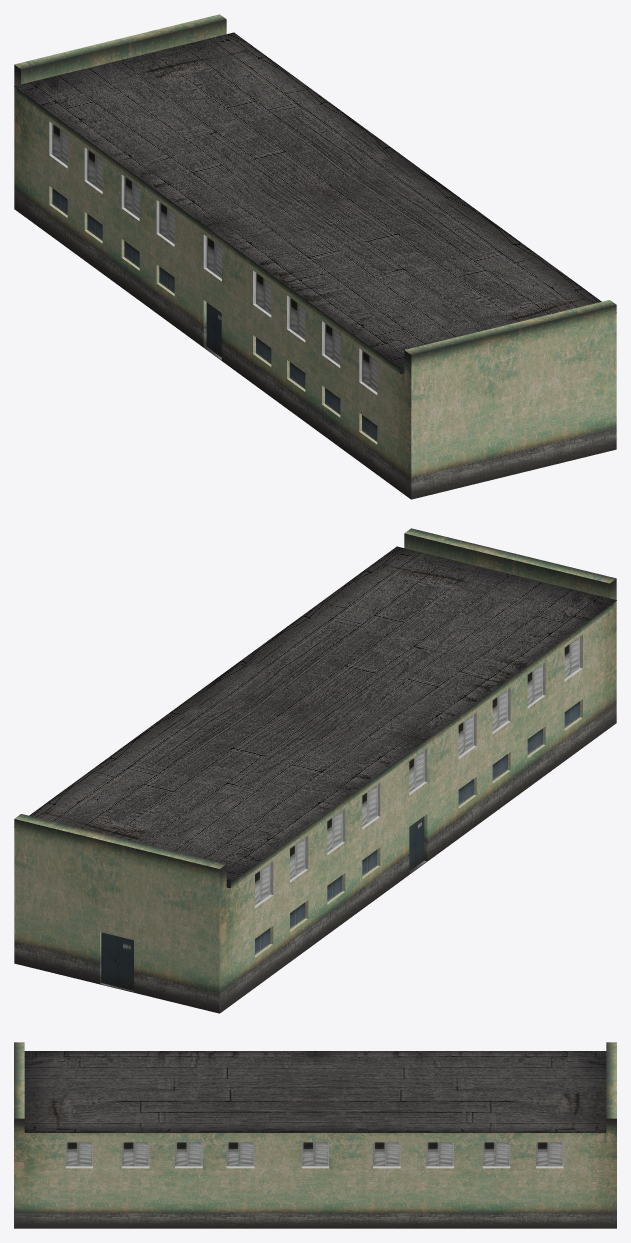
Rendered from r254_poverstation.FBX.
3 renders of one model, top to bottom at view 1: azimuth 30°, elevation 25°; view 2: azimuth 150°, elevation 25°; view 3: azimuth 270°, elevation 25°, orthographic. The views are drawn at different scales.
Visible parts, largest first — view 1: r254_poverstation; view 2: r254_poverstation; view 3: r254_poverstation.
Part boxes in pixels (box(x1,y1,x2,y2)): r254_poverstation: box(14, 14, 616, 499); r254_poverstation: box(14, 528, 616, 1013); r254_poverstation: box(14, 1042, 616, 1228).
Bounding box in the file's own units: 10.71 × 33.45 × 6.72.
